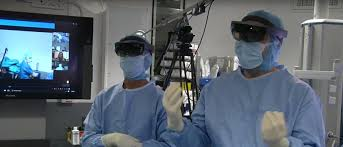hololens: (228, 17, 289, 46), (113, 36, 156, 58)
